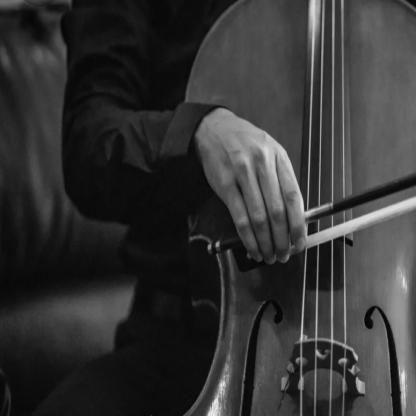bad: (209, 105, 320, 277)
